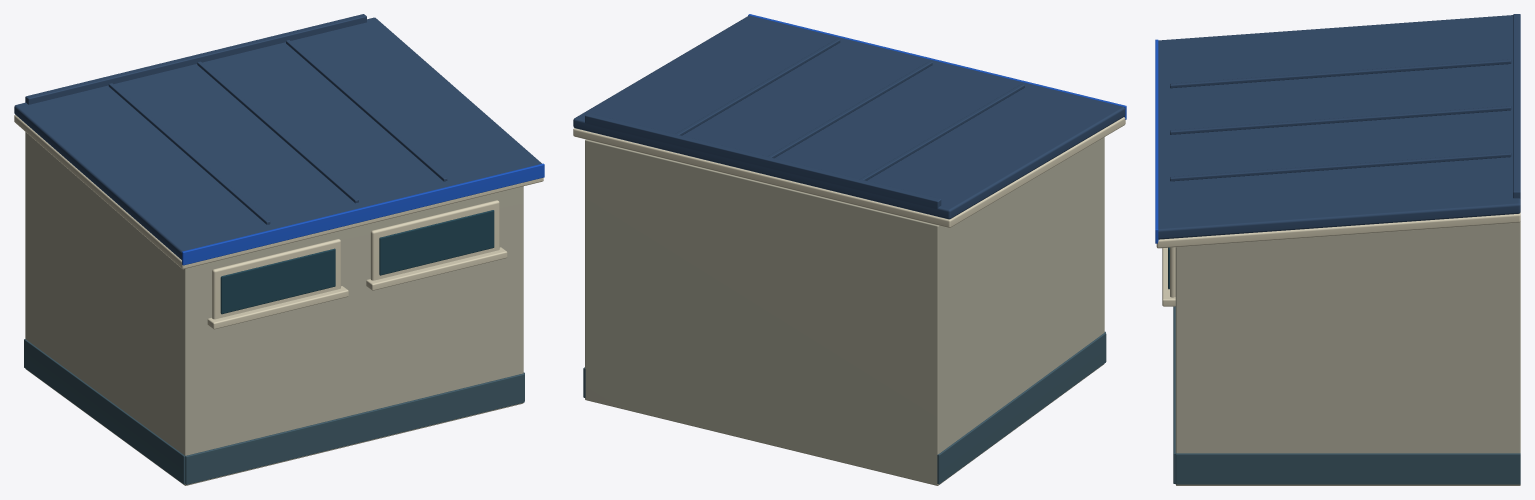
Rendered from d02_corner_shop_02.glb.
3 views of the same model, side by side, from view 1: azimuth 30°, elevation 25°; view 2: azimuth 150°, elevation 25°; view 3: azimuth 270°, elevation 25° (orthographic). The views are drawn at different scales.
Parts seen in each view (by area): view 1: D02CornerShop02_Mesh; view 2: D02CornerShop02_Mesh; view 3: D02CornerShop02_Mesh.
Boxes of the visible parts, box(x1,y1,x2,y2) form: D02CornerShop02_Mesh: box(14, 14, 544, 485); D02CornerShop02_Mesh: box(573, 14, 1126, 485); D02CornerShop02_Mesh: box(1155, 14, 1520, 485).
Bounding box in the file's own units: 4.7 × 3.39 × 3.82.
